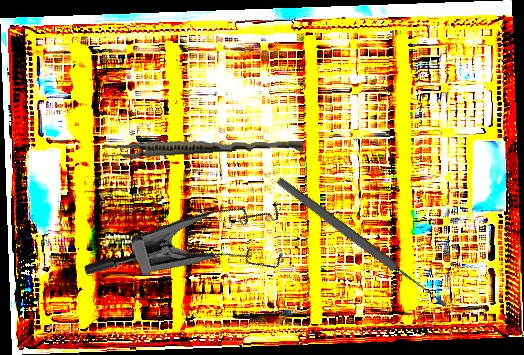Speculum: (80, 167, 305, 351)
Surgical Spoon: (274, 175, 450, 311)
Tissue Forceps: (102, 132, 304, 163)
